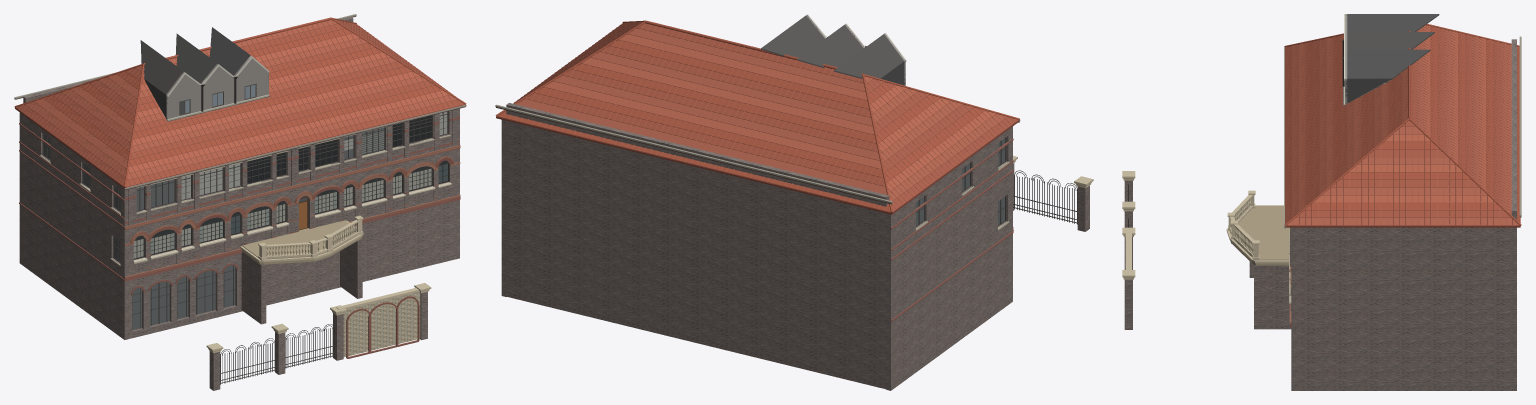
The model's file is jingan-daren-school-kangding-20-street-front-lod.glb.
3 views of the same model, side by side, from view 1: azimuth 30°, elevation 25°; view 2: azimuth 150°, elevation 25°; view 3: azimuth 270°, elevation 25° (orthographic). The views are drawn at different scales.
Visible parts, largest first — view 1: 康定东路20号原大任小学校沿街立面; view 2: 康定东路20号原大任小学校沿街立面; view 3: 康定东路20号原大任小学校沿街立面.
Part boxes in pixels (x1,y1,x2,y2): 康定东路20号原大任小学校沿街立面: (14, 14, 466, 390); 康定东路20号原大任小学校沿街立面: (495, 14, 1093, 390); 康定东路20号原大任小学校沿街立面: (1122, 14, 1521, 390).
Size of the model in its own units: 27.1 by 17.33 by 25.51.
45 materials, 1 textured.
